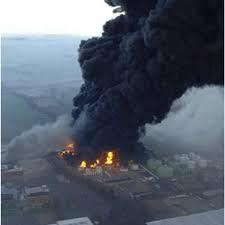Fire: (80, 152, 115, 170)
Smoke: (70, 2, 220, 162)
